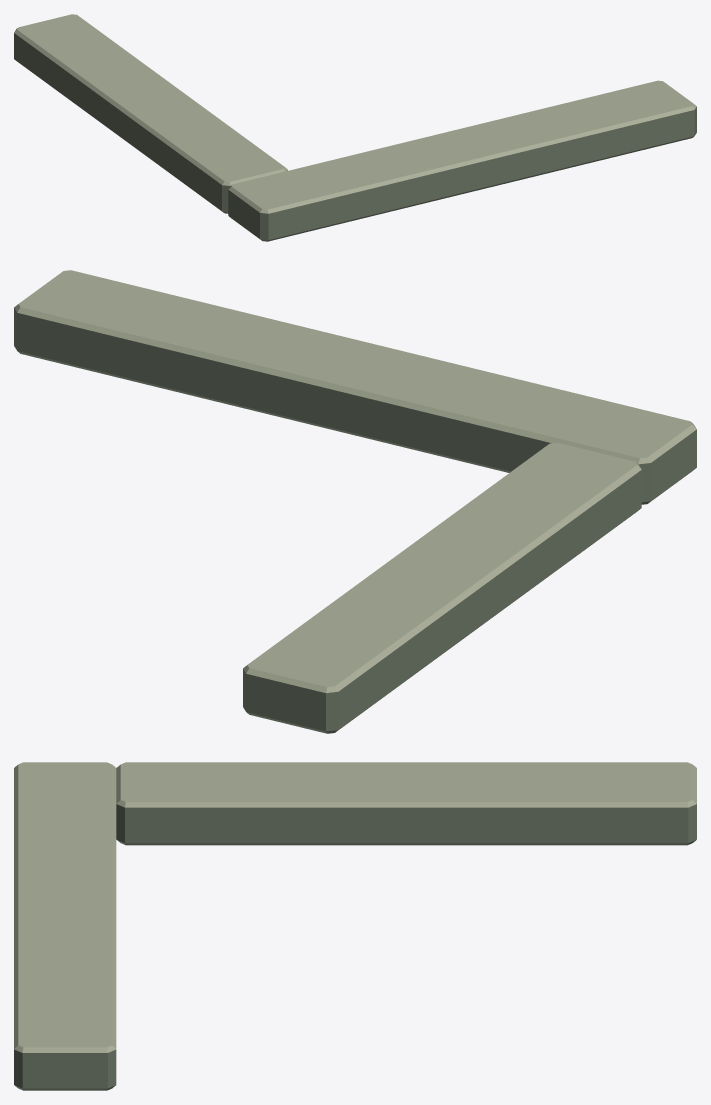
Rendered from floor-border-corner.glb.
3 views of the same model, one above another, from view 1: azimuth 30°, elevation 25°; view 2: azimuth 150°, elevation 25°; view 3: azimuth 270°, elevation 25° (orthographic). The views are drawn at different scales.
Parts seen in each view (by area): view 1: floor-border-corner__body; view 2: floor-border-corner__body; view 3: floor-border-corner__body.
Boxes of the visible parts, <box> form: floor-border-corner__body: <box>14,14,696,241</box>; floor-border-corner__body: <box>14,270,696,733</box>; floor-border-corner__body: <box>14,762,696,1090</box>.
Size of the model in its own units: 2 by 0.14 by 2.
